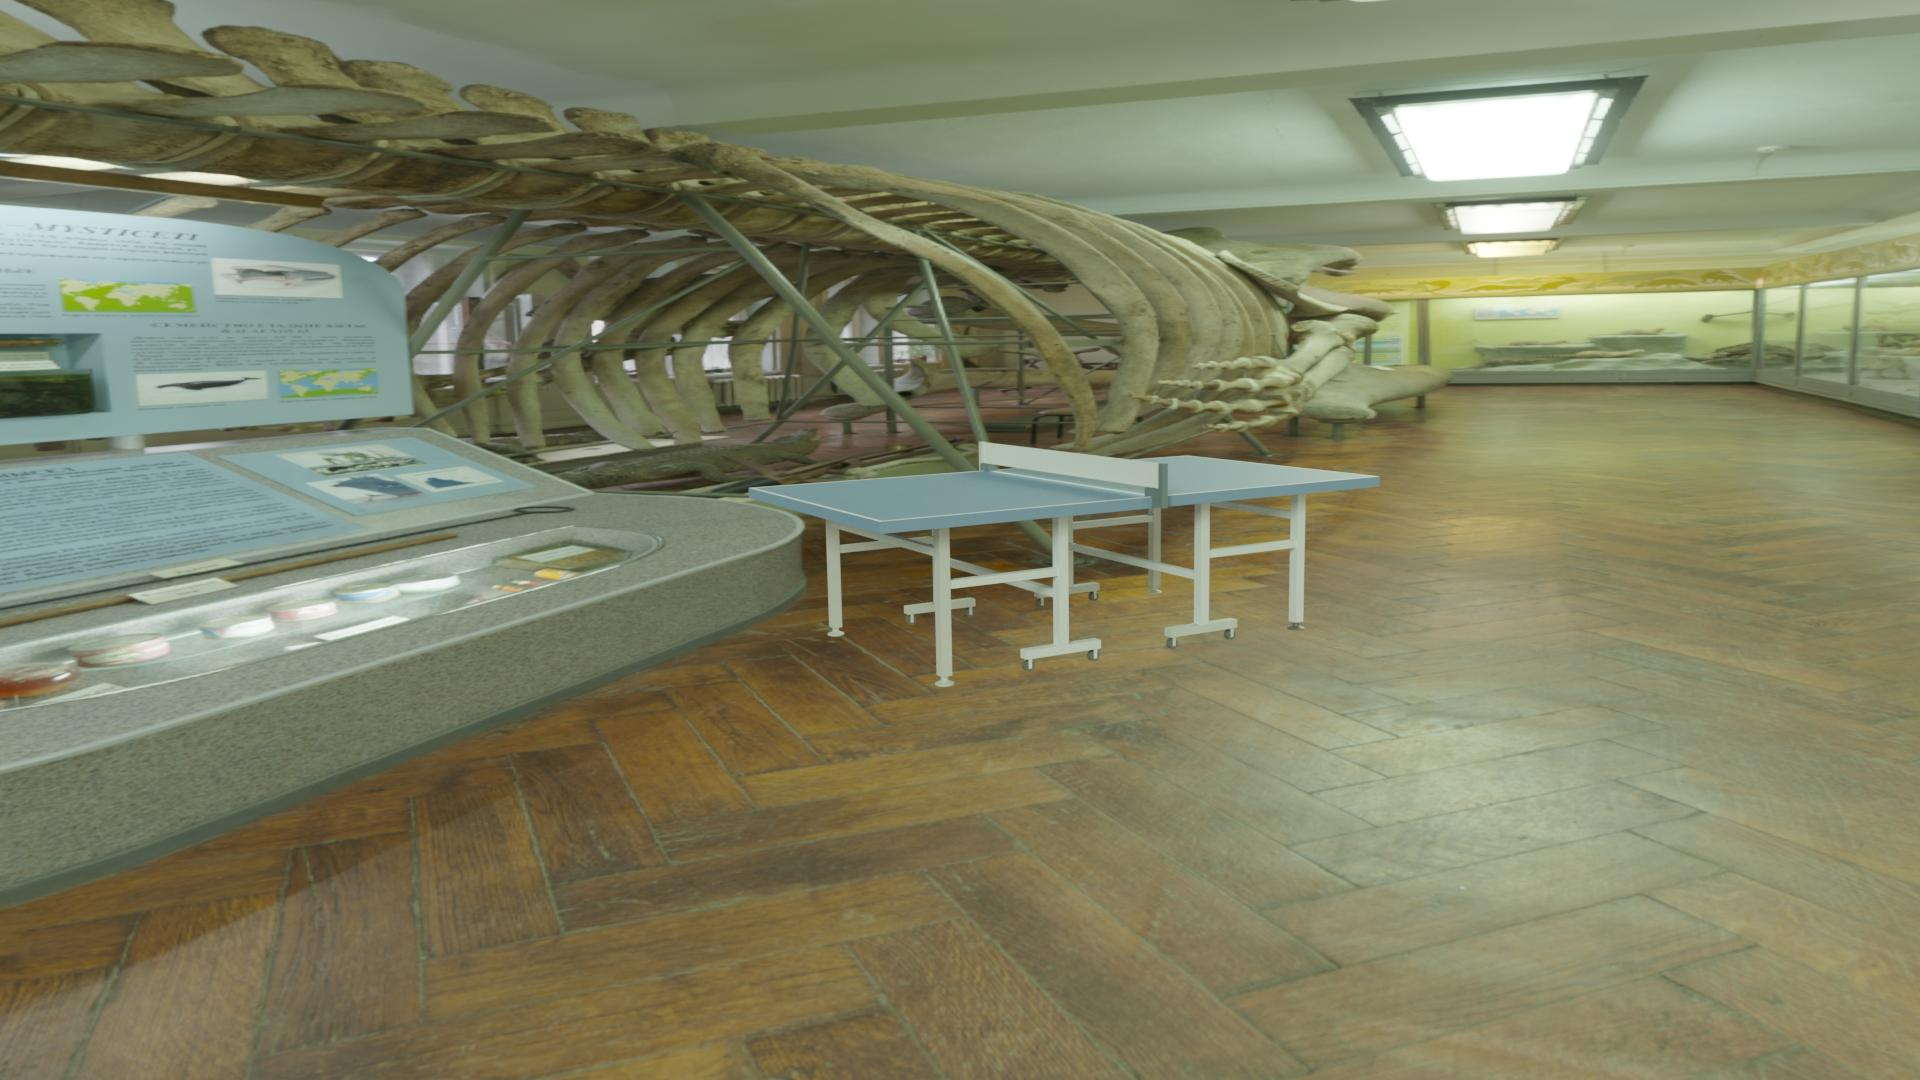table: (754, 456, 1374, 521)
